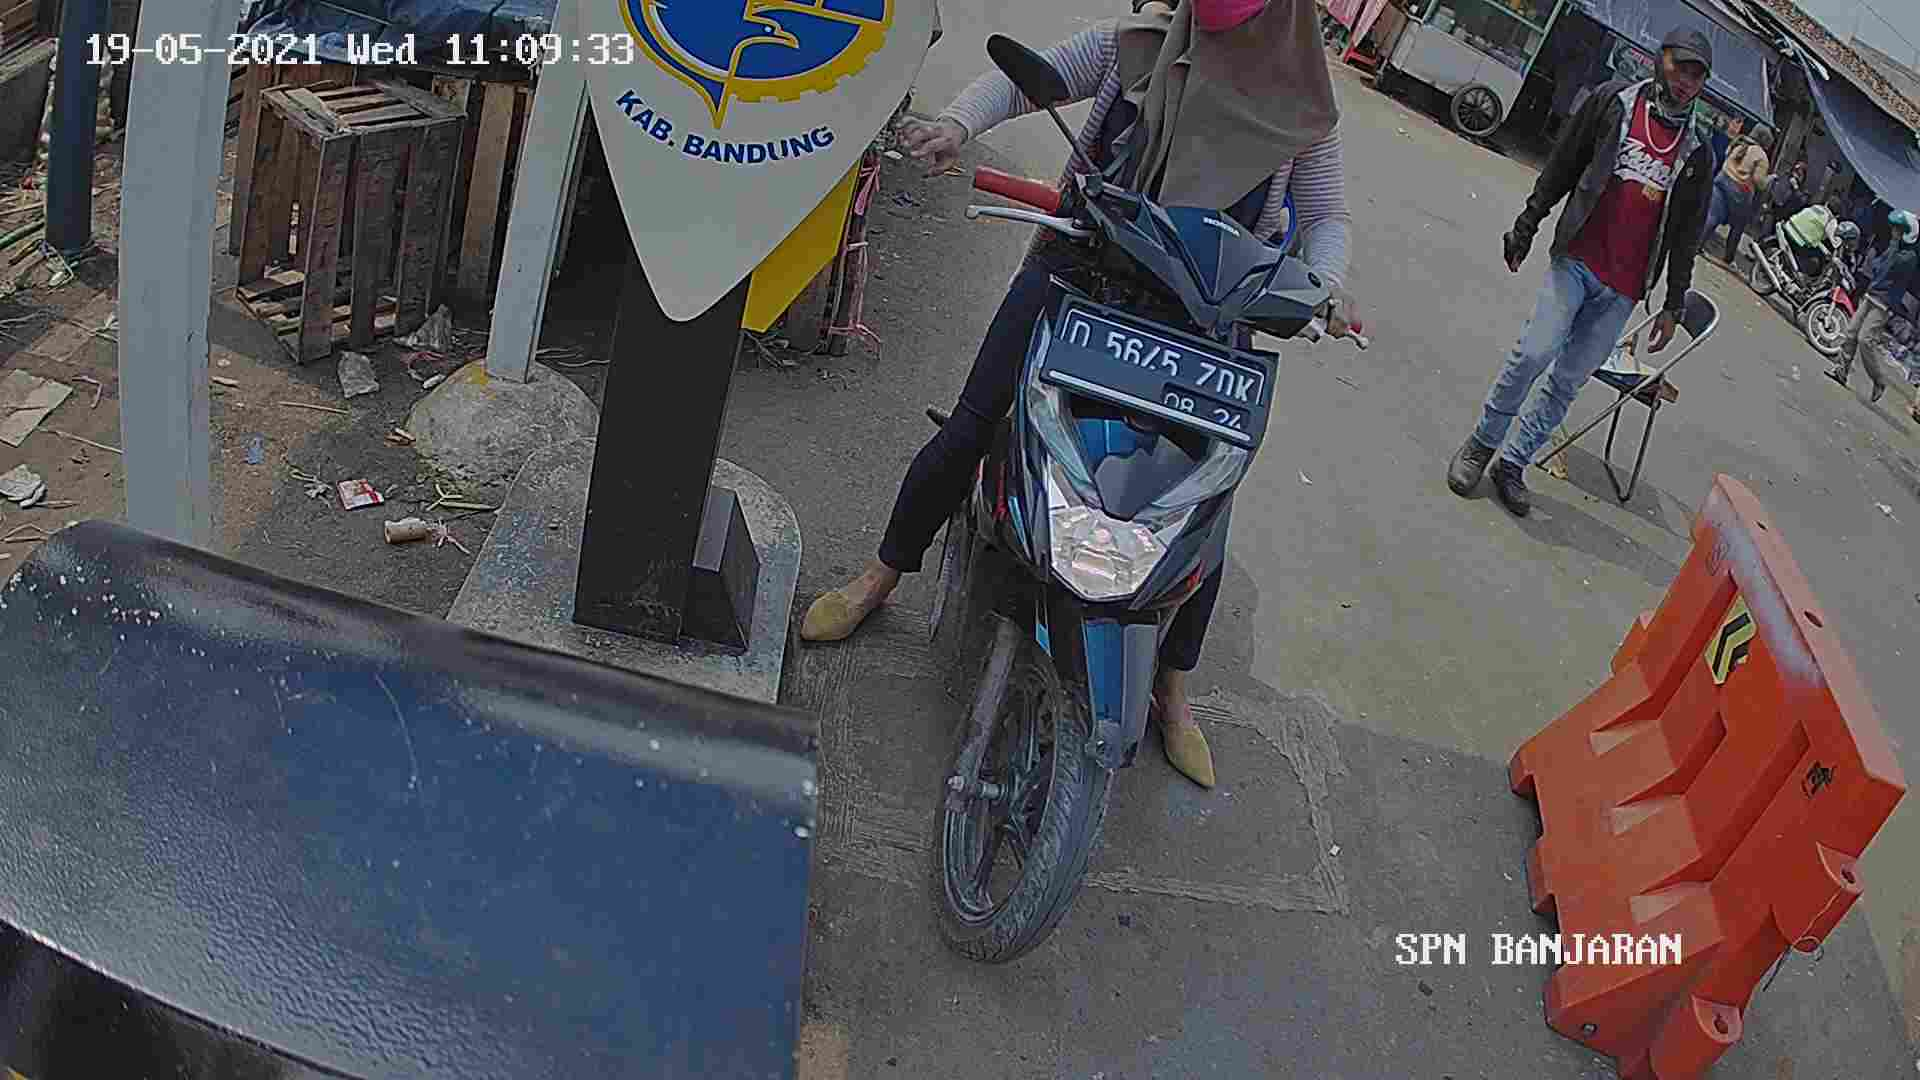motor: (927, 174, 1292, 969)
